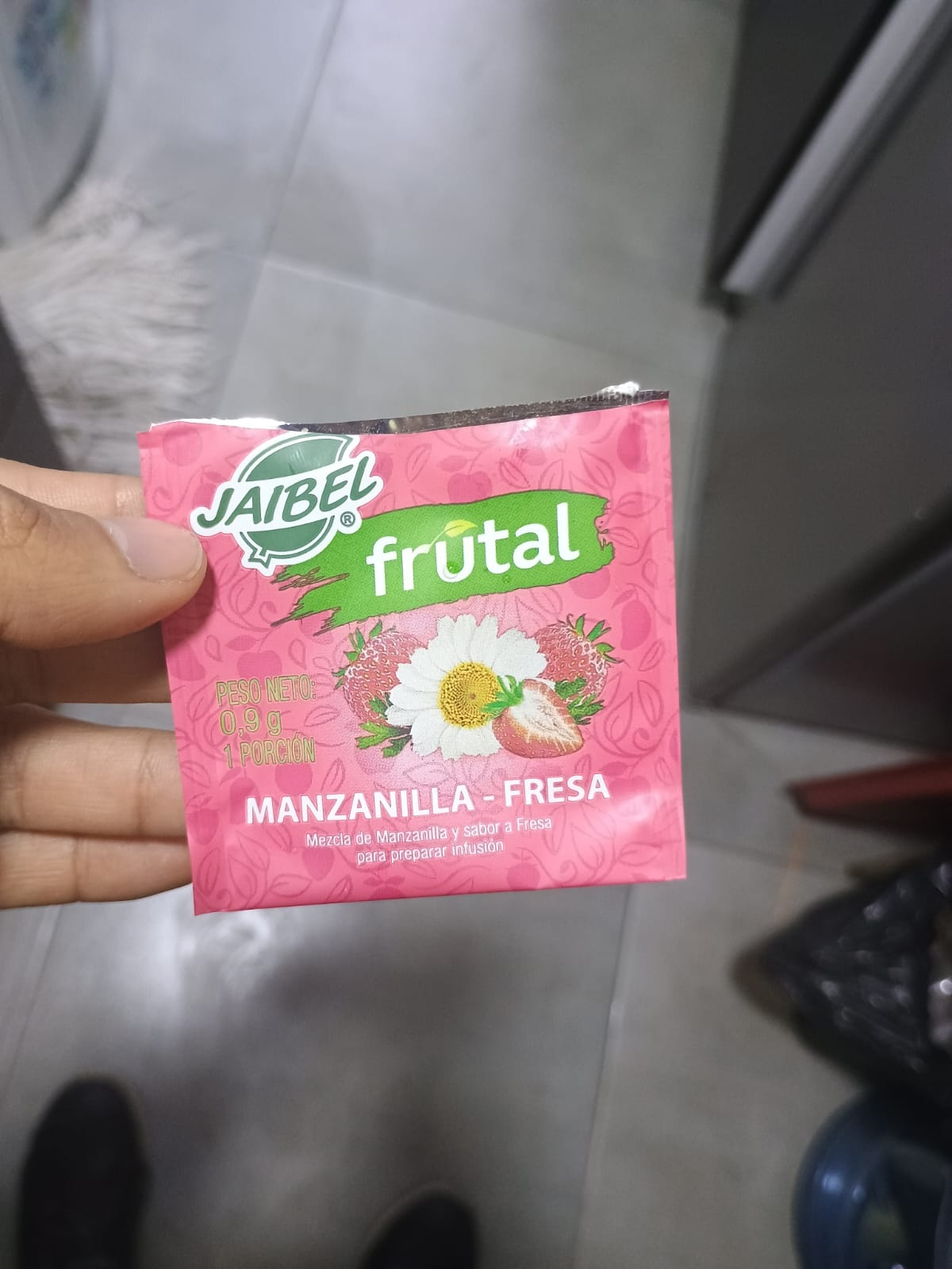Ordinario: (142, 384, 689, 917)
